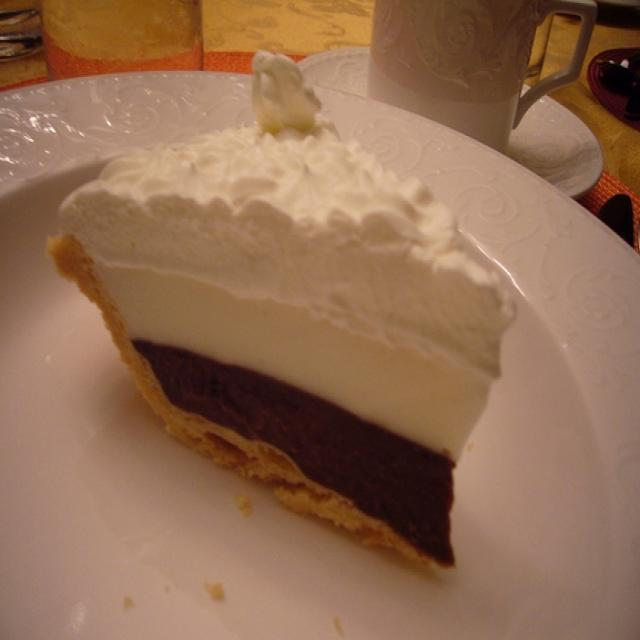蛋糕甜品: (25, 40, 626, 612)
